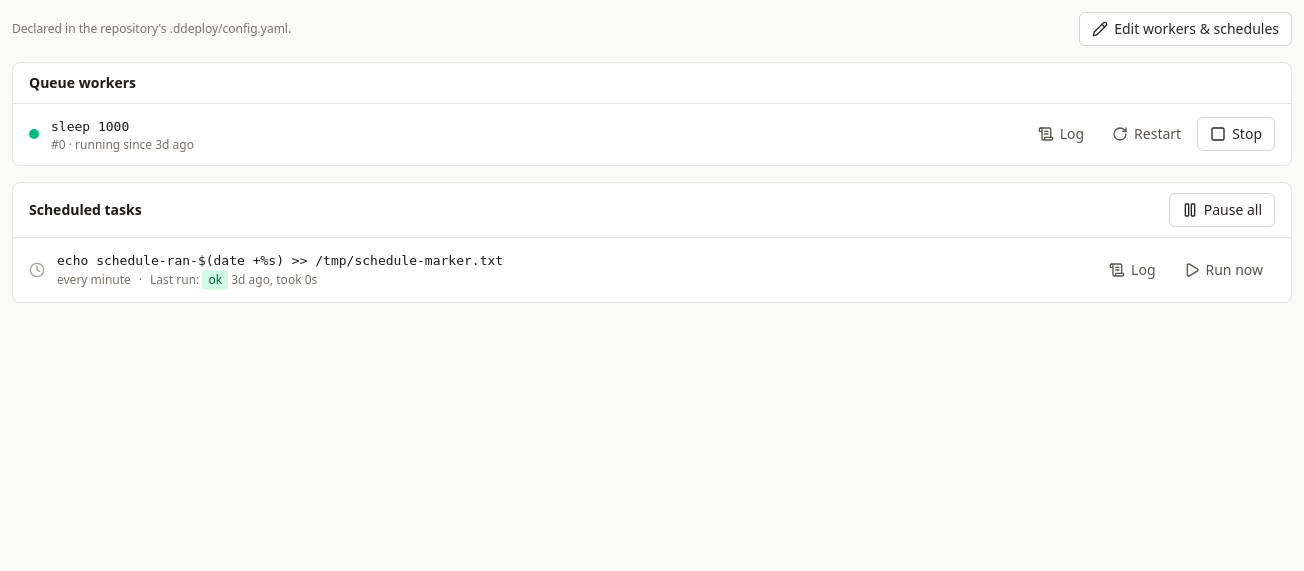
Test: workers editor › starts from what runs now, saying it comes from the repository
Step 1. Click the button "Edit workers & schedules" → click(1186, 29), box [1079, 12, 1292, 46]
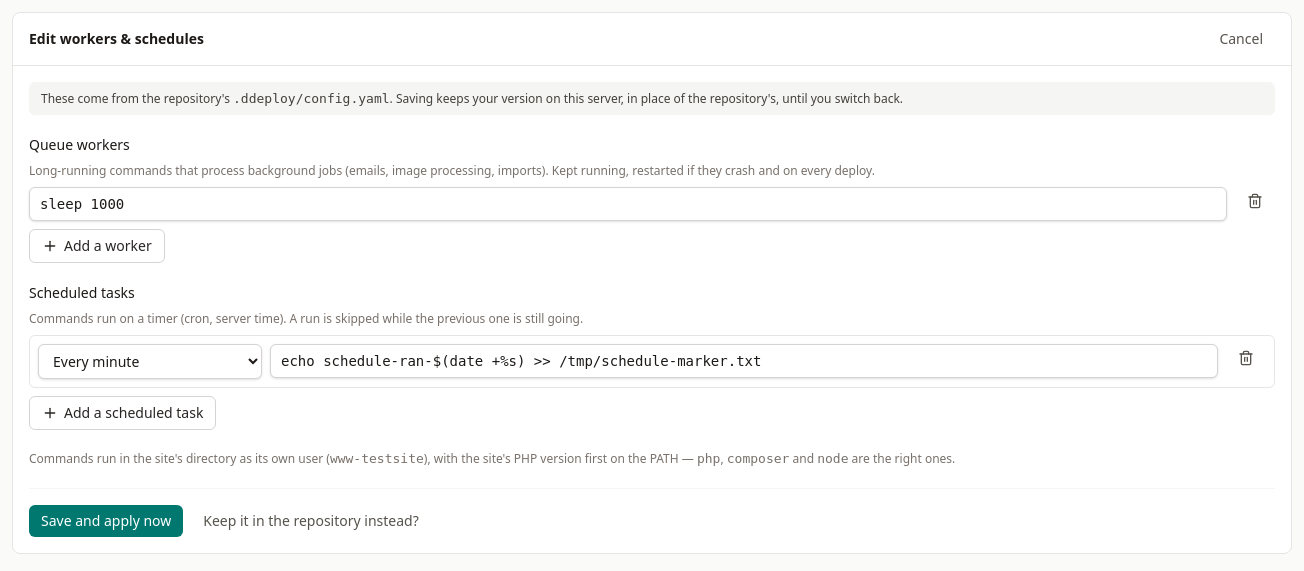
Expected: the field named "Worker #0 command" holds "sleep 1000", [29, 187, 1227, 221]
Expected: the text "come from the repository" is shown, [41, 90, 233, 107]
